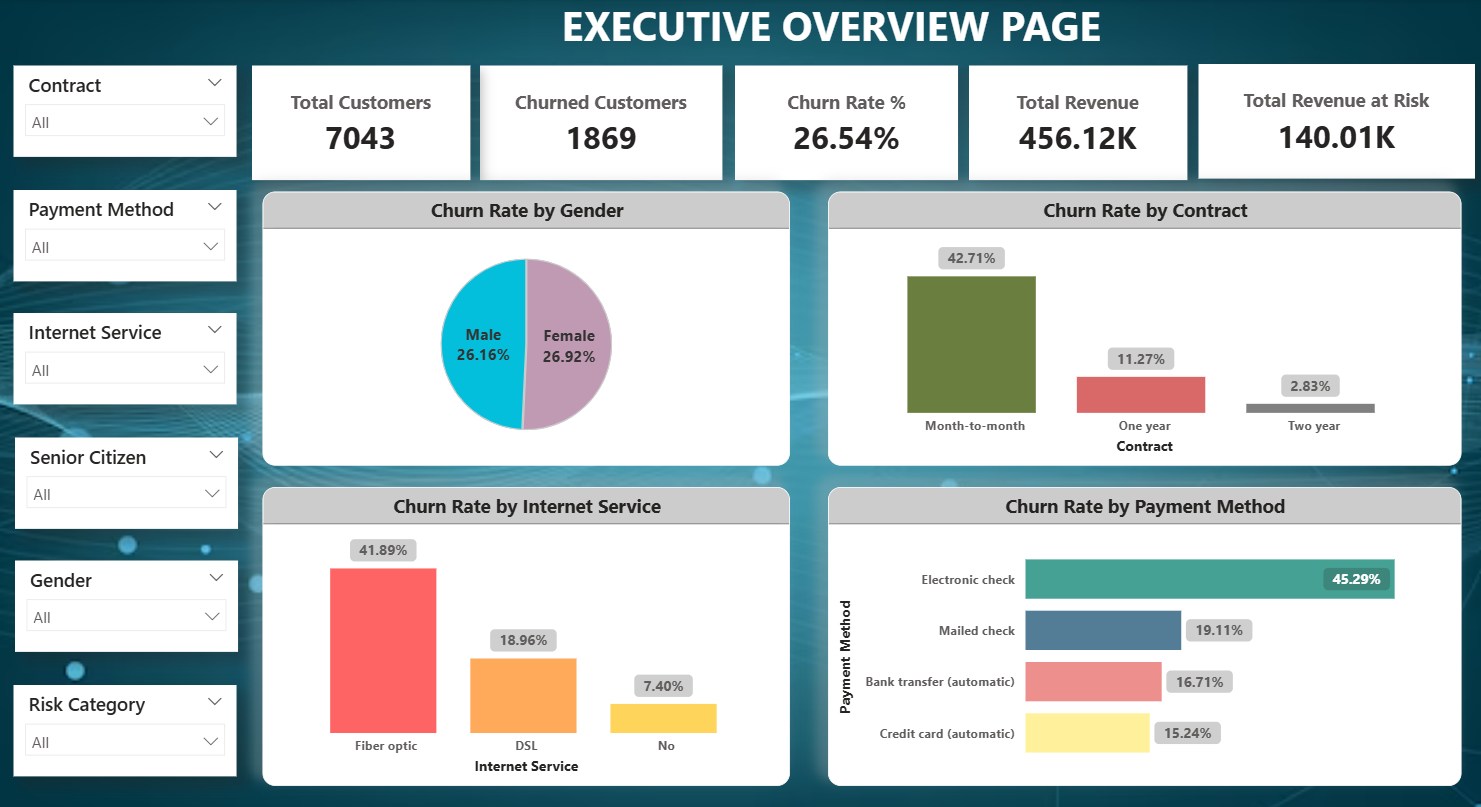

What the dashboard file says about the page in this screenshot:
{"tool":"powerbi","page":{"name":"Page 1","canvas":[1280,700],"ordinal":0},"visuals":[{"type":"textbox","title":"EXECUTIVE OVERVIEW PAGE","box":[277.1,0,881.3,96.9],"z":0},{"type":"slicer","fields":{"Values":["Dim_Contract.Contract"]},"box":[13.6,58.1,192.3,78.7],"z":1000},{"type":"slicer","fields":{"Values":["Dim_Risk.Risk_Category"]},"box":[13.6,591.1,192.3,78.7],"z":2000},{"type":"slicer","fields":{"Values":["Dim_Service.InternetService"]},"box":[13.6,271.3,192.3,78.7],"z":3000},{"type":"slicer","fields":{"Values":["Dim_Contract.PaymentMethod"]},"box":[13.6,164.7,192.3,78.7],"z":4000},{"type":"slicer","fields":{"Values":["Dim_Customer.gender"]},"box":[15.1,484.5,192.3,78.7],"z":5000},{"type":"slicer","fields":{"Values":["Dim_Customer.SeniorCitizen"]},"box":[15.1,377.9,192.3,78.7],"z":6000},{"type":"cardVisual","fields":{"Data":["Metrics.Total Churned Customers"]},"box":[416.4,58,209,98.4],"z":7000},{"type":"cardVisual","fields":{"Data":["Metrics.Total Customers"]},"box":[219.2,58,187.8,98.4],"z":8000},{"type":"cardVisual","fields":{"Data":["Metrics.Churn Rate %"]},"box":[634.8,58,192.3,98.4],"z":9000},{"type":"cardVisual","fields":{"Data":["Metrics.Total Revenue"]},"box":[836.6,58,187.8,98.4],"z":10000},{"type":"cardVisual","fields":{"Data":["Metrics.Total Revenue at Risk"]},"box":[1033.8,56.5,237.7,98.4],"z":11000},{"type":"clusteredColumnChart","fields":{"Category":["Dim_Contract.Contract"],"Y":["Metrics.Churn Rate %"]},"box":[714.7,166.6,545.1,236.2],"z":12000},{"type":"clusteredColumnChart","fields":{"Category":["Dim_Service.InternetService"],"Y":["Metrics.Churn Rate %"]},"box":[228.2,420.5,454.3,257.4],"z":13000},{"type":"clusteredBarChart","fields":{"Category":["Dim_Contract.PaymentMethod"],"Y":["Metrics.Churn Rate %"]},"box":[714.7,420.5,545.1,257.4],"z":14000},{"type":"pieChart","fields":{"Category":["Dim_Customer.gender"],"Y":["Metrics.Churn Rate %"]},"box":[228.6,166.6,454.3,236.2],"z":15000}]}

Visuals, with their boxes in screenshot pixels (x1, y1, x2, y2), scaled from the page's 1280x700 canvas onto the 1481x807 screenshot:
"EXECUTIVE OVERVIEW PAGE" textbox: crop(321, 0, 1340, 112)
slicer - Dim_Contract.Contract: crop(16, 67, 238, 158)
slicer - Dim_Risk.Risk_Category: crop(16, 681, 238, 772)
slicer - Dim_Service.InternetService: crop(16, 313, 238, 404)
slicer - Dim_Contract.PaymentMethod: crop(16, 190, 238, 281)
slicer - Dim_Customer.gender: crop(17, 559, 240, 649)
slicer - Dim_Customer.SeniorCitizen: crop(17, 436, 240, 526)
cardVisual - Metrics.Total Churned Customers: crop(482, 67, 724, 180)
cardVisual - Metrics.Total Customers: crop(254, 67, 471, 180)
cardVisual - Metrics.Churn Rate %: crop(734, 67, 957, 180)
cardVisual - Metrics.Total Revenue: crop(968, 67, 1185, 180)
cardVisual - Metrics.Total Revenue at Risk: crop(1196, 65, 1471, 179)
clusteredColumnChart - Dim_Contract.Contract x Metrics.Churn Rate %: crop(827, 192, 1458, 464)
clusteredColumnChart - Dim_Service.InternetService x Metrics.Churn Rate %: crop(264, 485, 790, 782)
clusteredBarChart - Dim_Contract.PaymentMethod x Metrics.Churn Rate %: crop(827, 485, 1458, 782)
pieChart - Dim_Customer.gender x Metrics.Churn Rate %: crop(264, 192, 790, 464)
